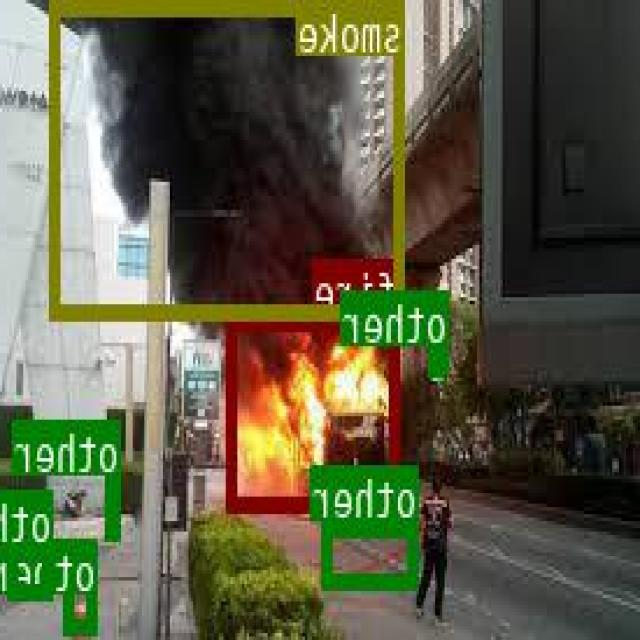fire: (230, 314, 400, 508)
other: (324, 519, 421, 587), (10, 488, 54, 598), (65, 535, 98, 630), (108, 474, 122, 538), (431, 343, 451, 371)
smoke: (52, 0, 406, 315)
